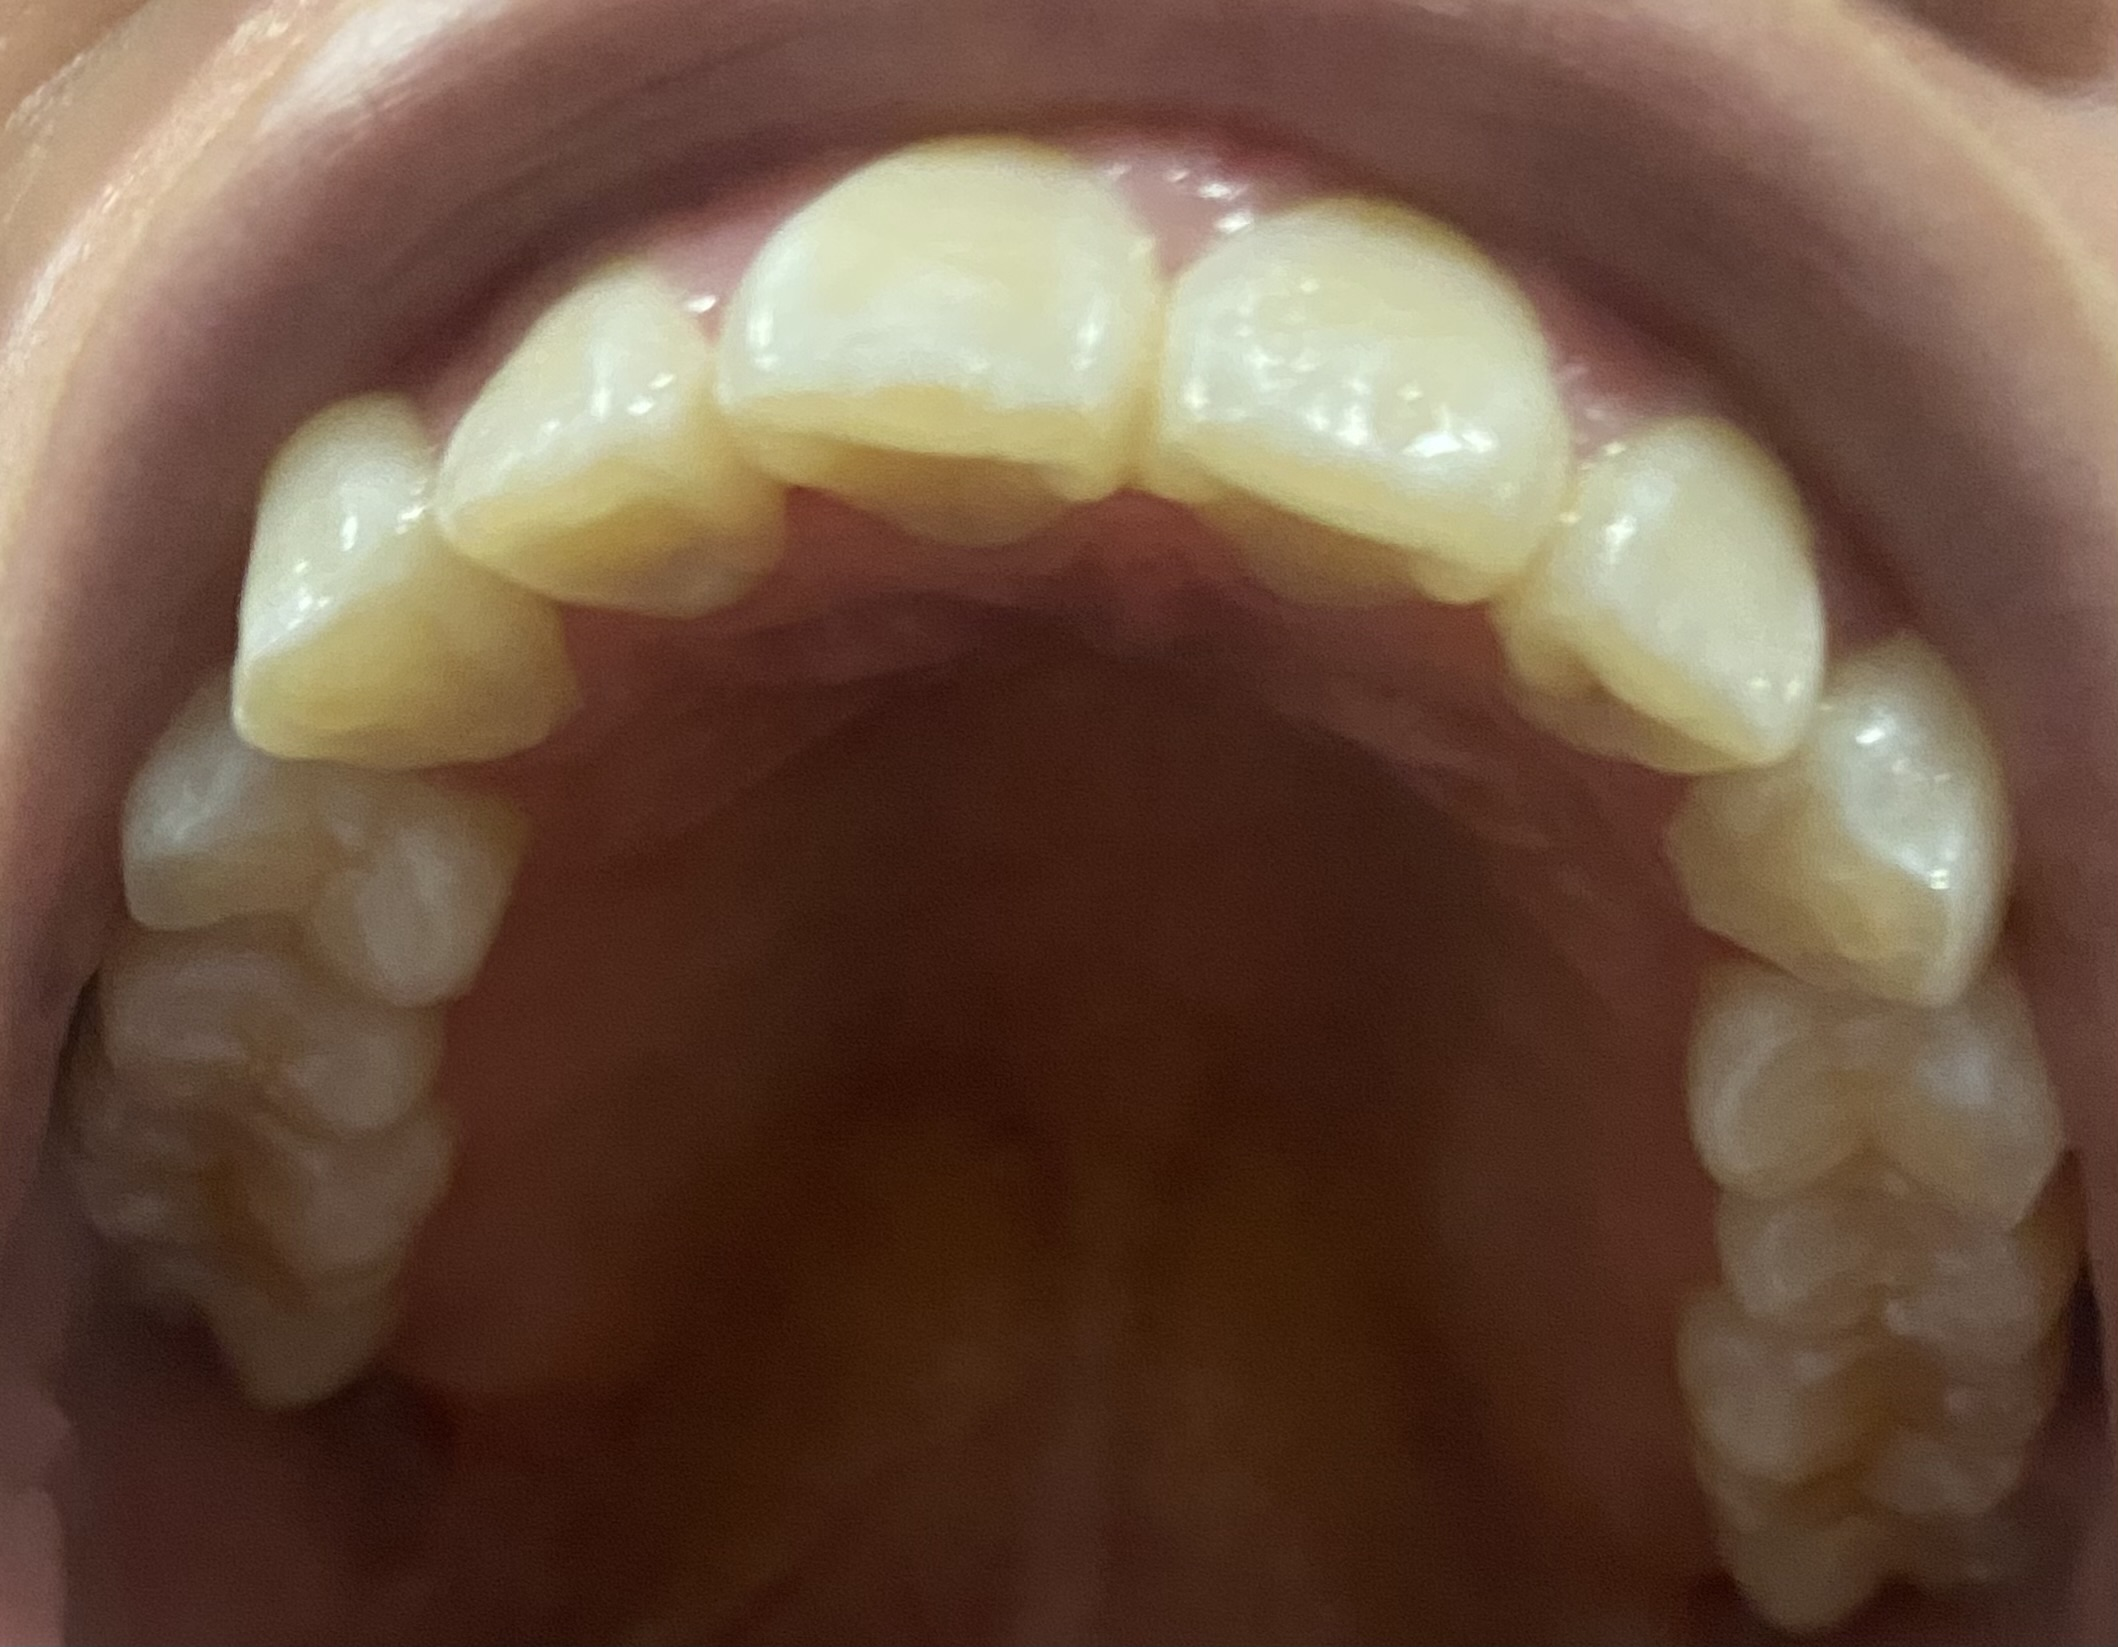teeth: (719, 130, 1161, 555), (1140, 192, 1582, 611), (216, 380, 568, 771), (1675, 637, 2012, 1004), (1498, 414, 1830, 771), (443, 257, 777, 607), (71, 1015, 453, 1310), (119, 740, 531, 993), (1688, 971, 2064, 1215), (1684, 1321, 2068, 1530), (112, 920, 449, 1122), (1716, 1213, 2072, 1360)
